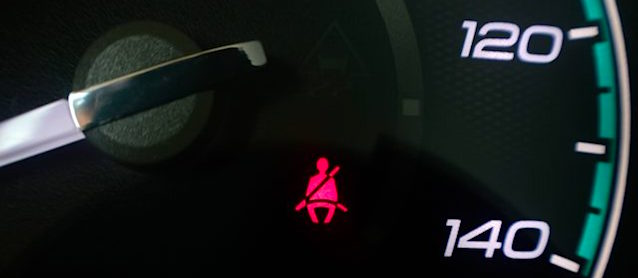ABS: (291, 149, 352, 229)
